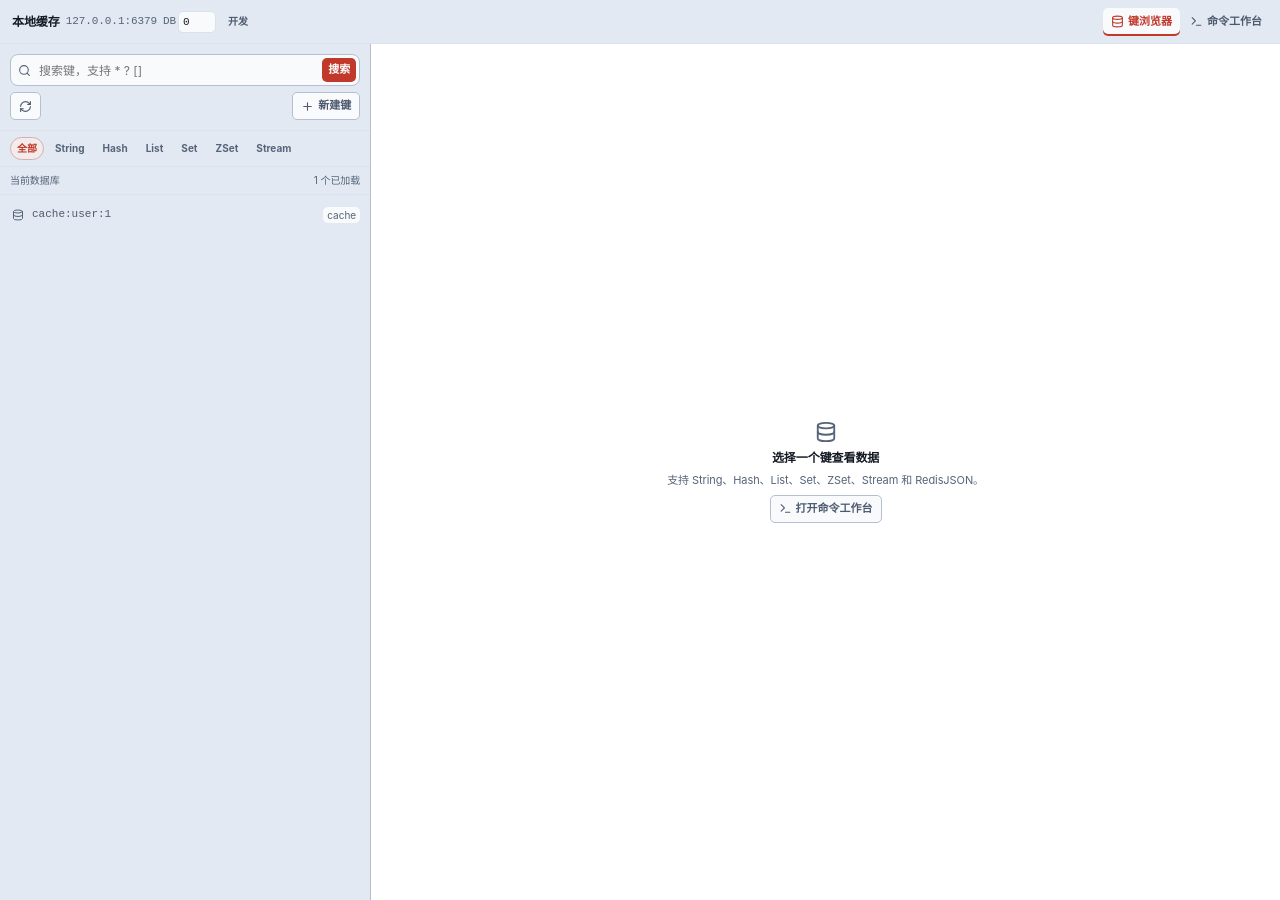
RedisWorkspace › always confirms destructive deletion and clears the selected key afterward
The width and height of the screenshot is (1280, 900).
Step 1. Click the option "cache:user:1 cache" → (72, 214), box [0,199,370,231]
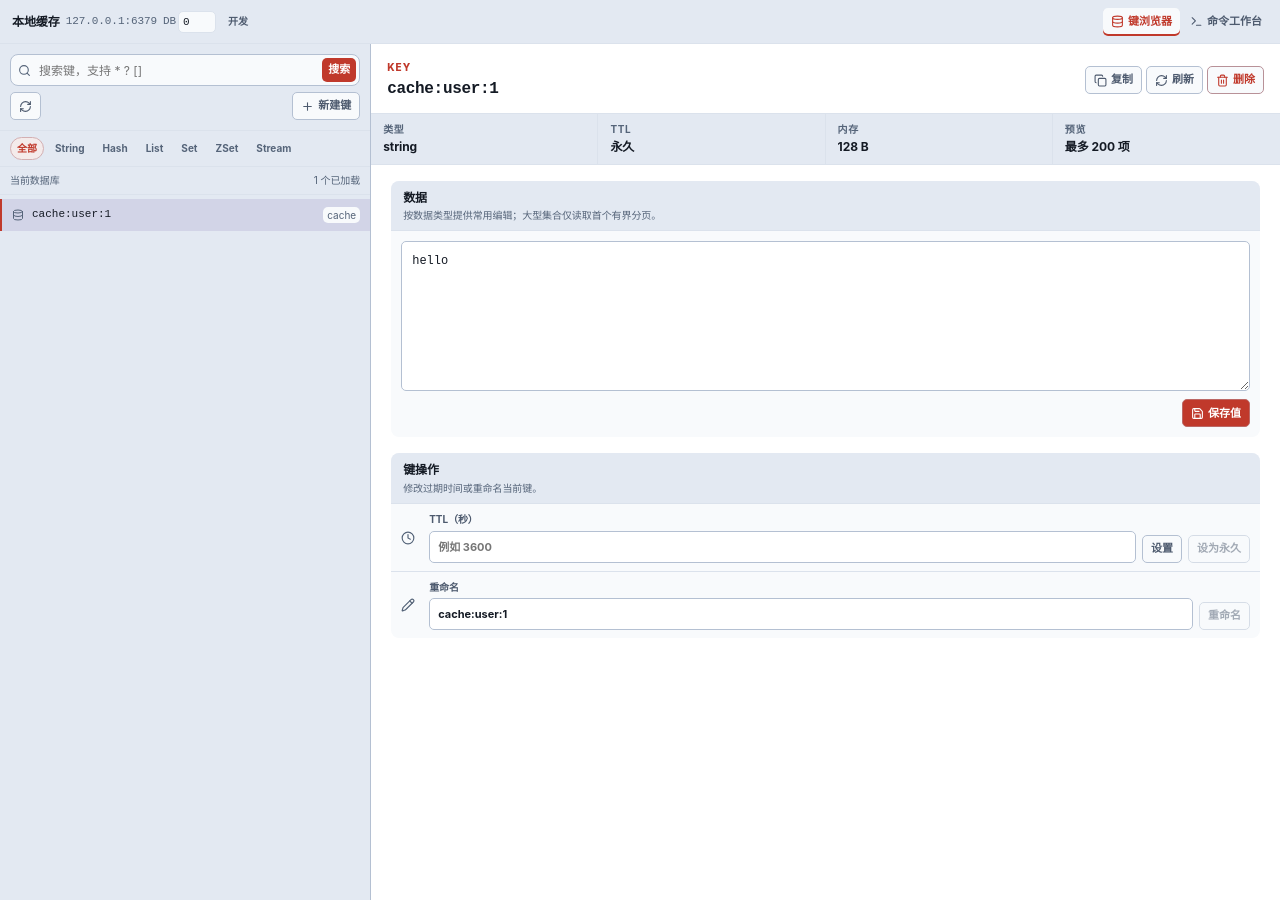
Check: the heading "cache:user:1" is shown, box [387,78,499,101]
Step 2. Click the button "删除" → (1236, 80), box [1207,66,1264,94]
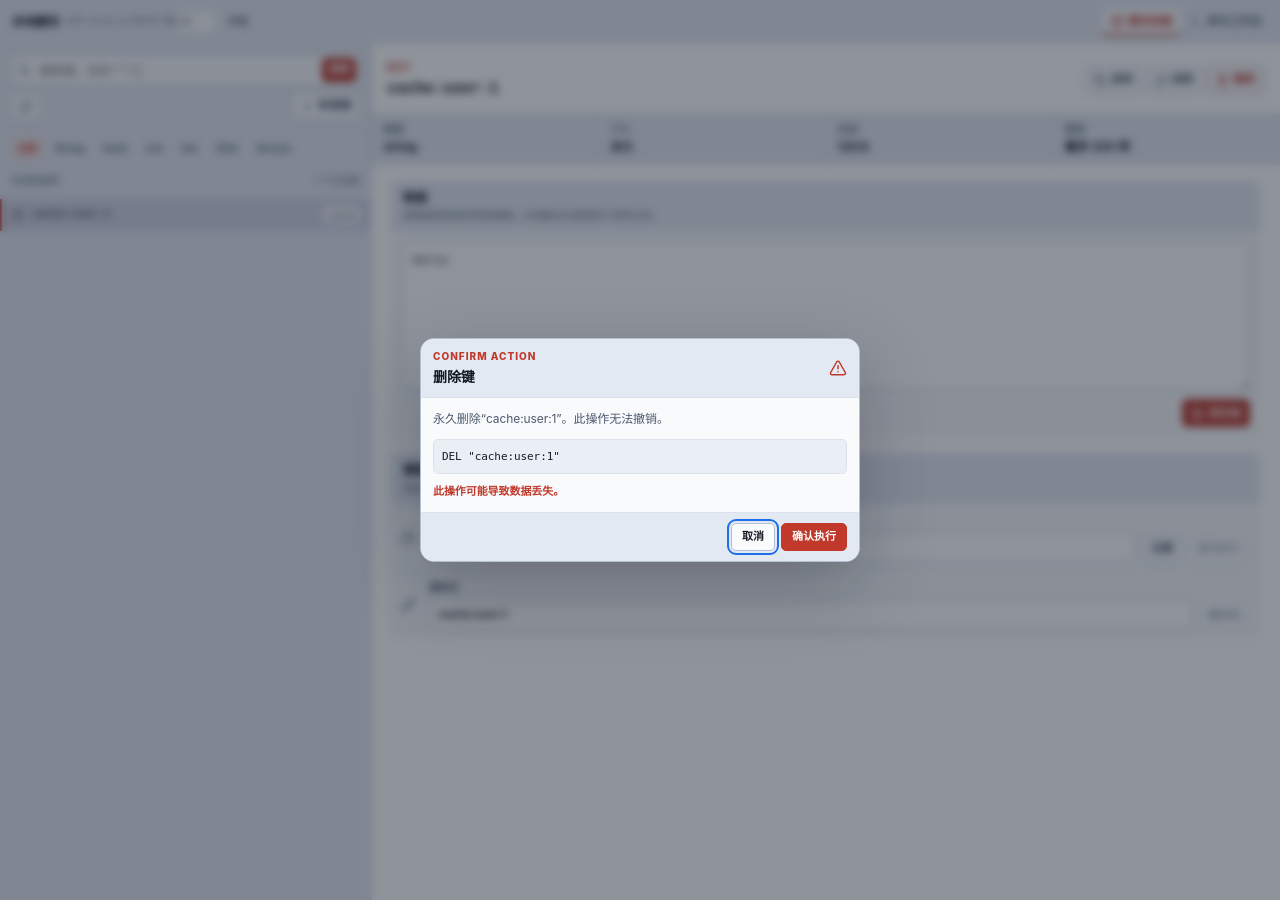
Check: the dialog "删除键" shows "无法撤销", box [433,411,669,426]
Step 3. Click the button "确认执行" → (814, 537), box [781,523,847,551]
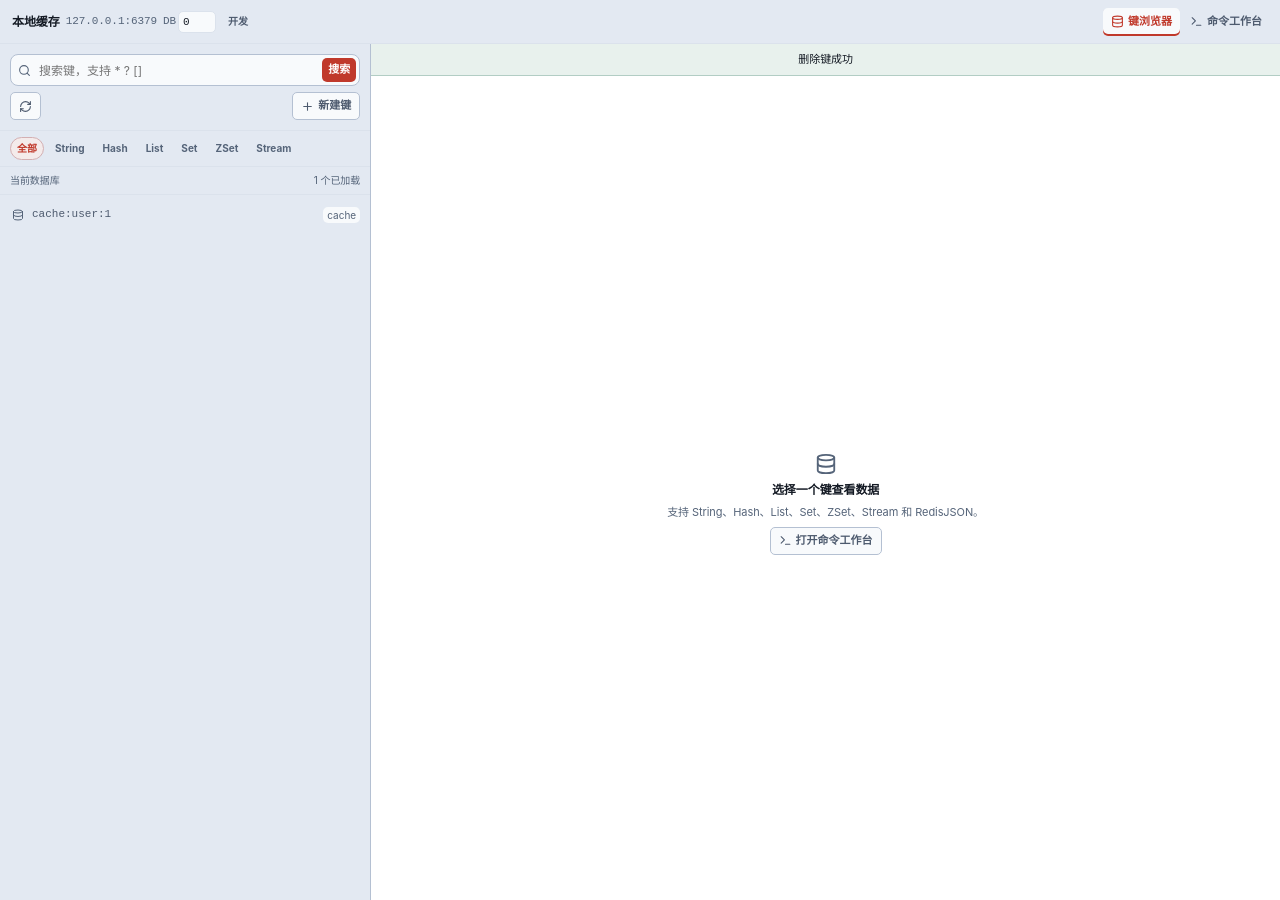
Check: the text "选择一个键查看数据" is shown, box [772,481,879,498]
